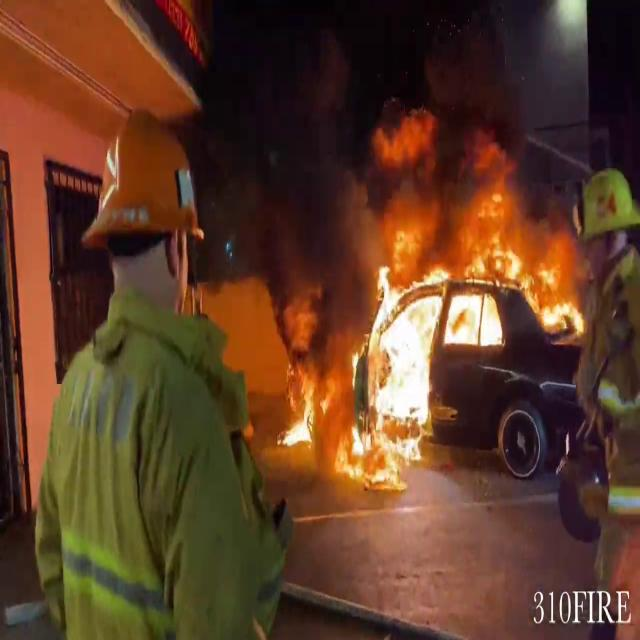Fire: (298, 144, 584, 470)
Smoke: (276, 25, 582, 287)
